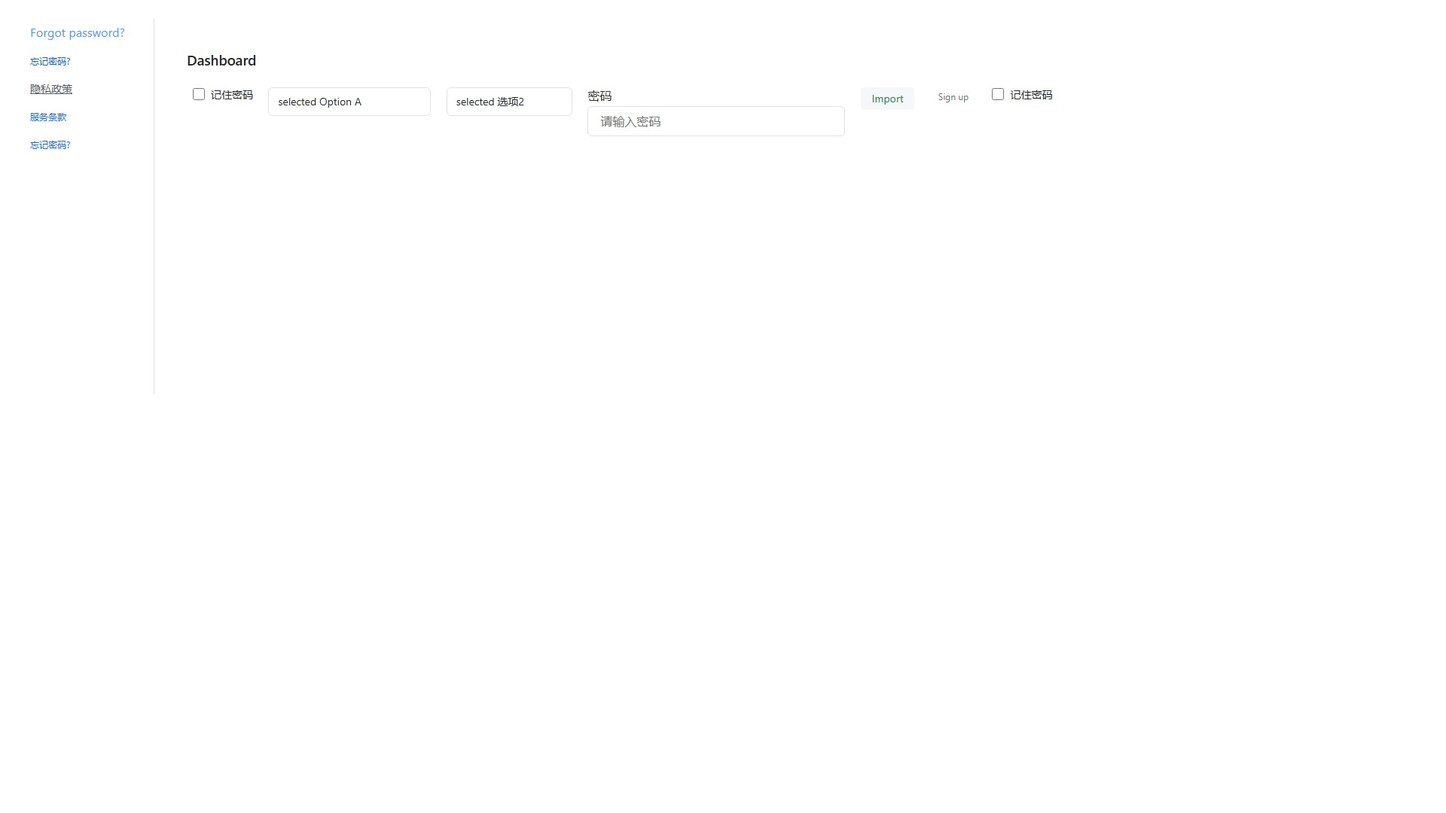button: (860, 87, 915, 110), (930, 88, 977, 104)
checkbox: (193, 88, 205, 100), (992, 88, 1004, 100)
icon: (211, 87, 253, 101), (1010, 87, 1052, 101)
input: (588, 106, 845, 136)
link: (30, 24, 125, 40), (30, 81, 72, 96), (30, 55, 70, 67), (30, 139, 70, 151), (30, 111, 66, 123)
radio: (193, 87, 253, 101), (992, 87, 1052, 101)
select: (268, 87, 431, 116), (446, 87, 572, 116)
